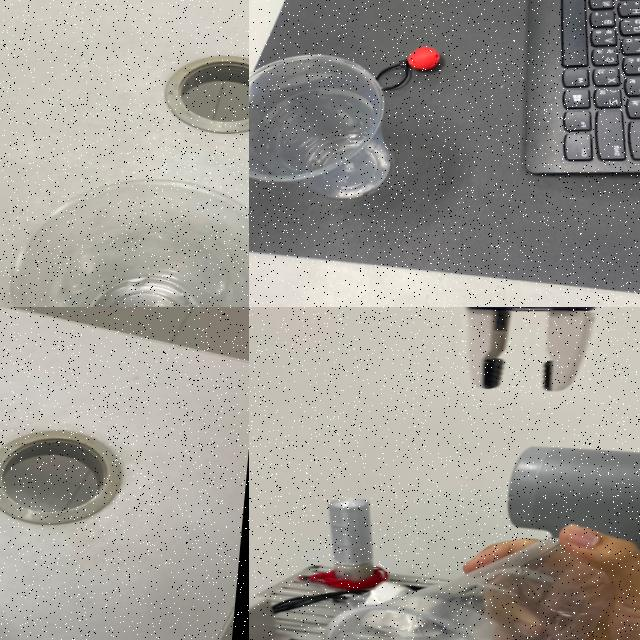glass: (302, 514, 635, 640), (0, 164, 249, 307), (249, 45, 409, 204)
